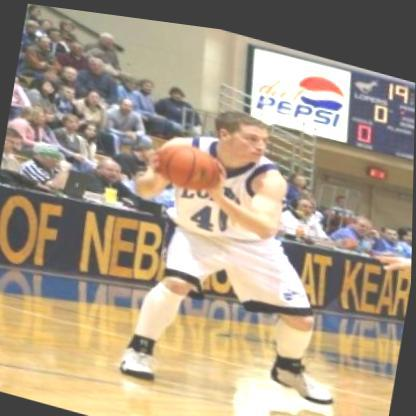basketball: (148, 125, 235, 197)
